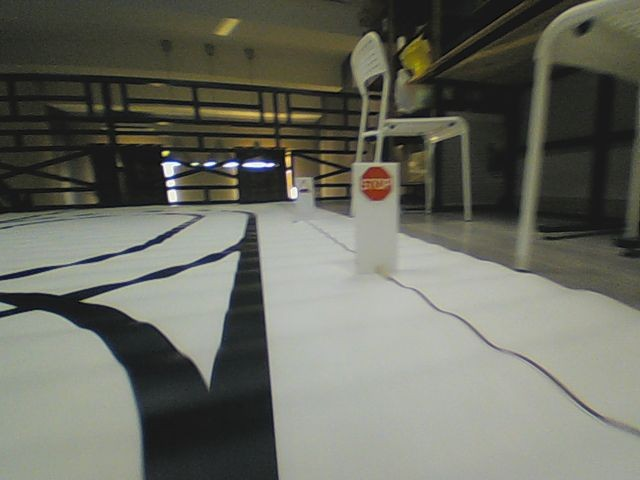Stop: (359, 165, 392, 201)
